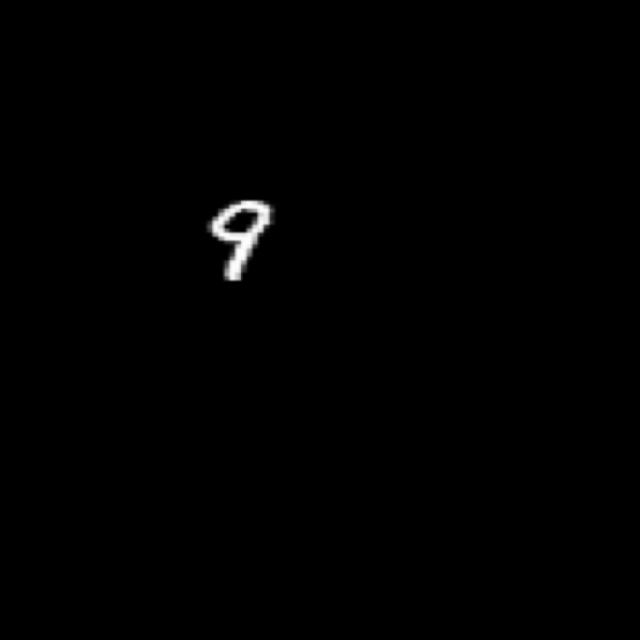nine -9-: (208, 192, 282, 288)
